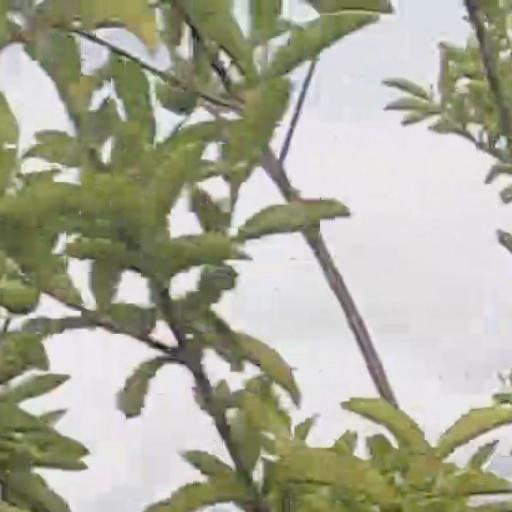acerola: (1, 279, 40, 312)
